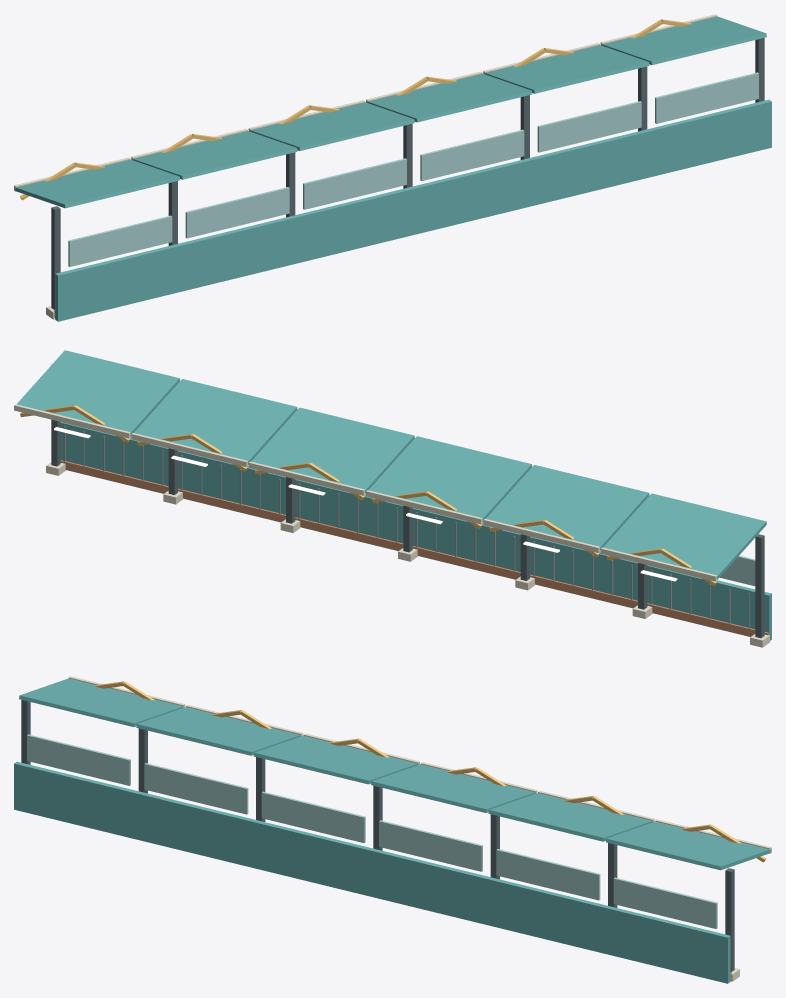
Rendered from ProductionHall.glb.
The picture shows the model from 3 angles, top to bottom: view 1: azimuth 30°, elevation 25°; view 2: azimuth 150°, elevation 25°; view 3: azimuth 330°, elevation 25°; orthographic projection.
Visible parts, largest first — view 1: ProductionHall_RearPier; view 2: ProductionHall_RearPier; view 3: ProductionHall_RearPier.
Part boxes in pixels (x1,y1,x2,y2): ProductionHall_RearPier: (14, 14, 771, 321); ProductionHall_RearPier: (14, 350, 771, 647); ProductionHall_RearPier: (14, 676, 771, 983).
Size of the model in its own units: 147 by 22.71 by 18.28.
